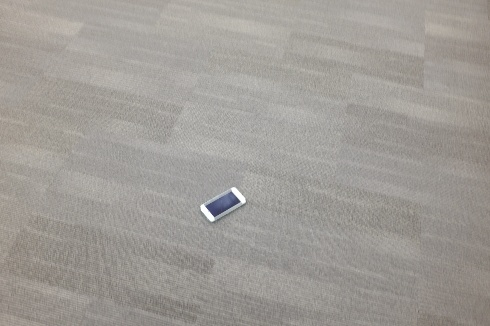phone: (198, 188, 247, 220)
